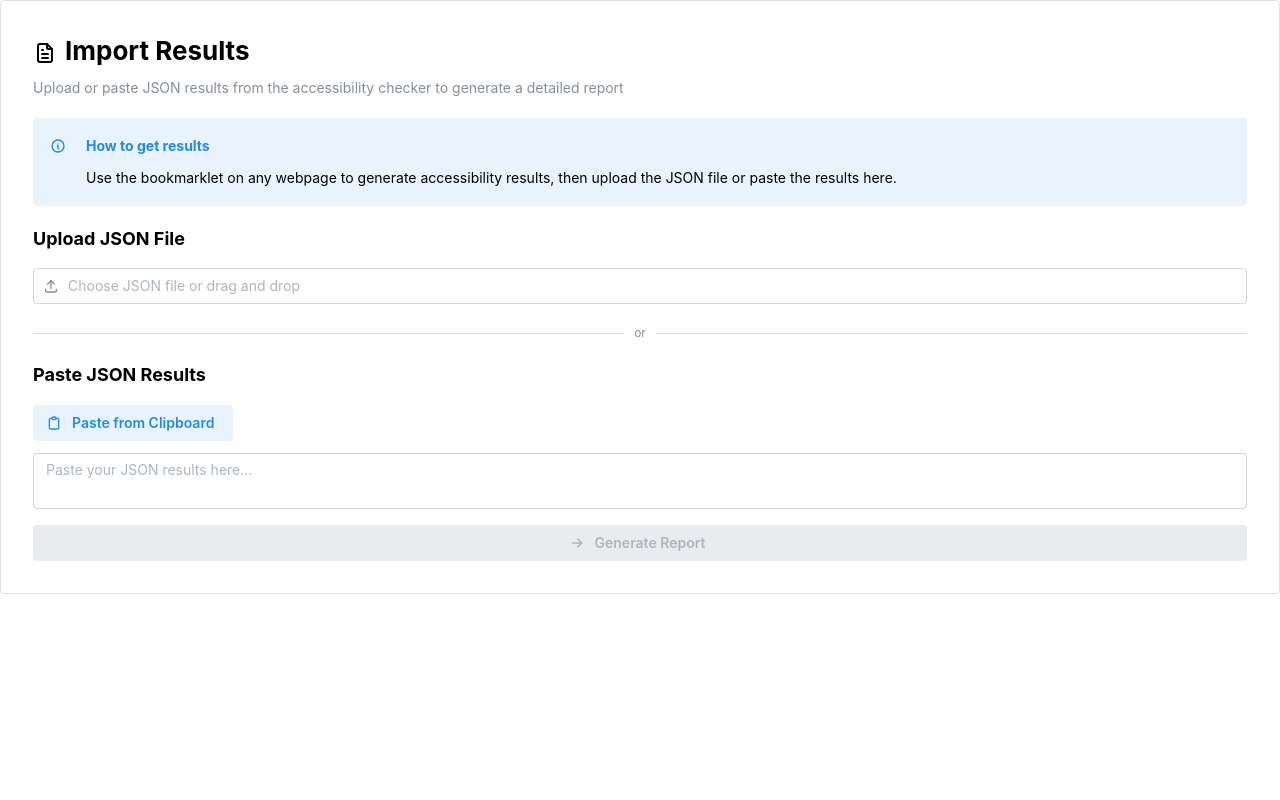
Test: ImportResults component › handles JSON paste with invalid data
The image size is (1280, 800).
Type "invalid json" into the text box with placeholder "Paste your JSON results here...". click: [640, 481]
box: x1=33 y1=452 x2=1247 y2=509
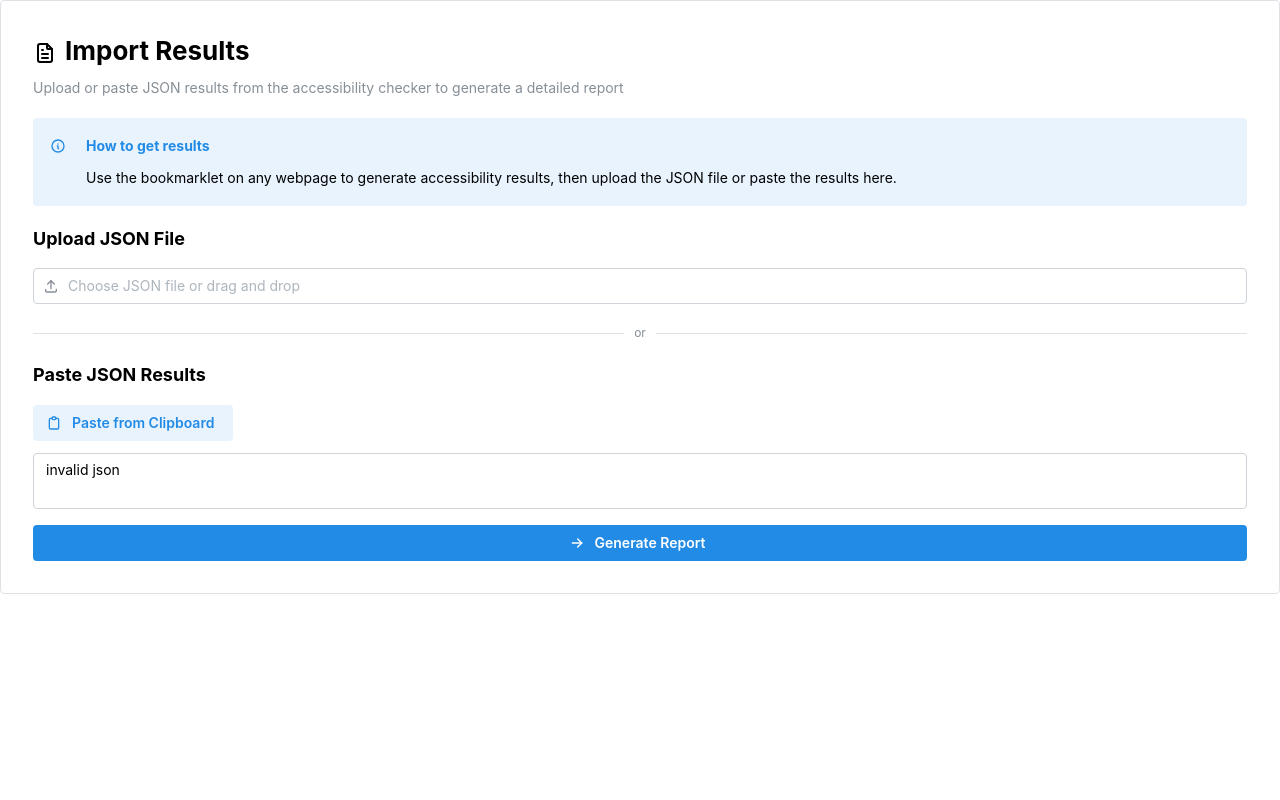
Click the button "Generate Report". click: [640, 543]
box: x1=33 y1=525 x2=1247 y2=561
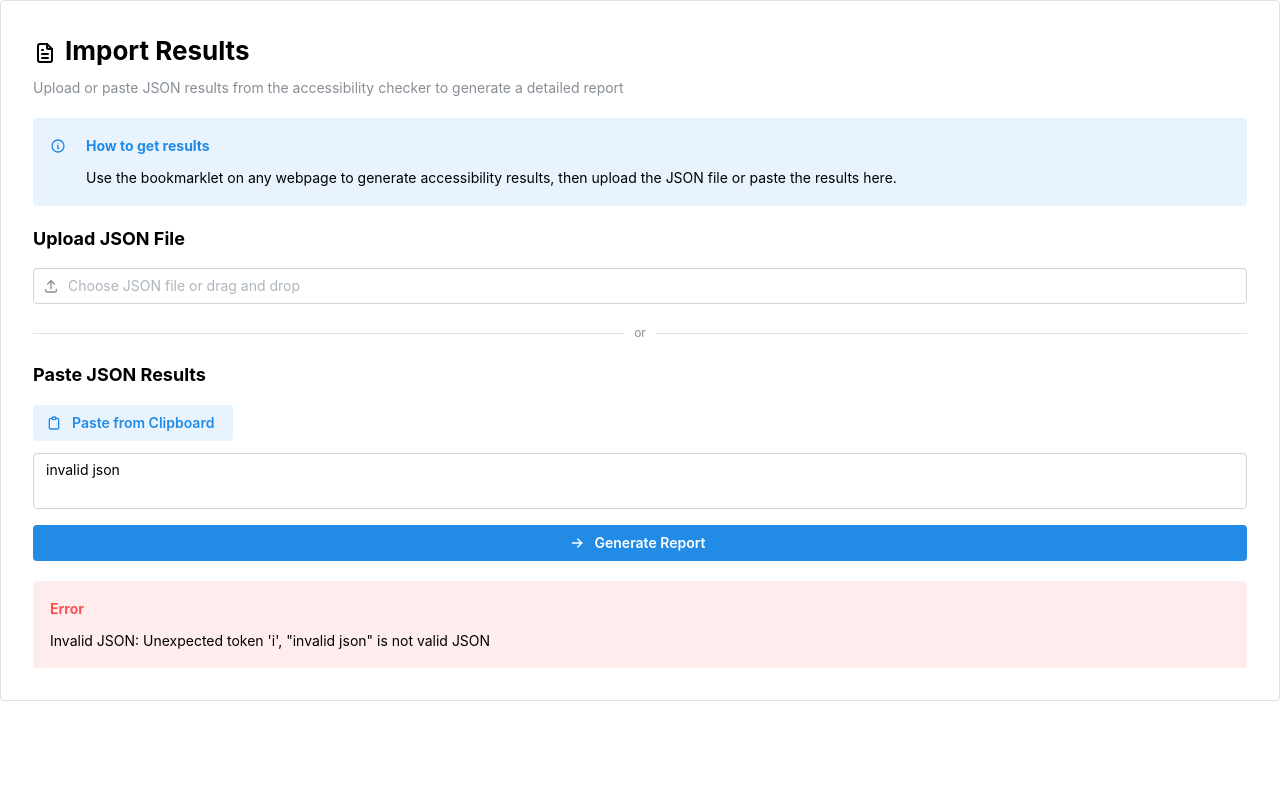
Expected: the text "Invalid JSON" is shown, x1=50 y1=632 x2=490 y2=649
